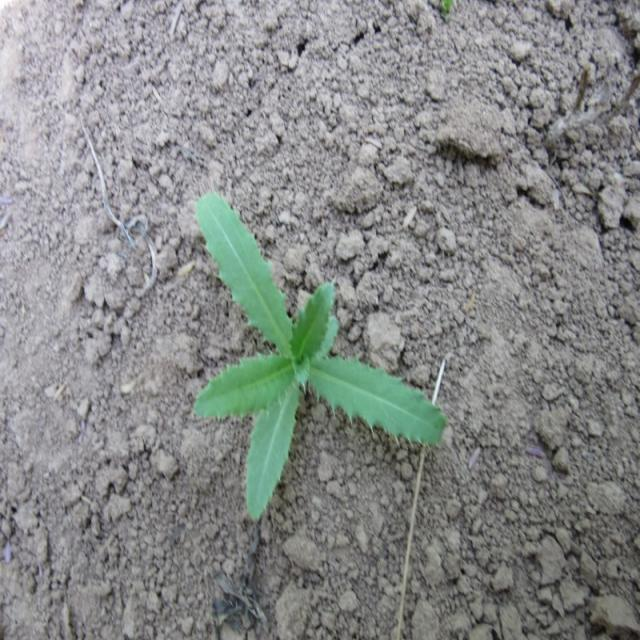cs: (191, 182, 447, 526)
